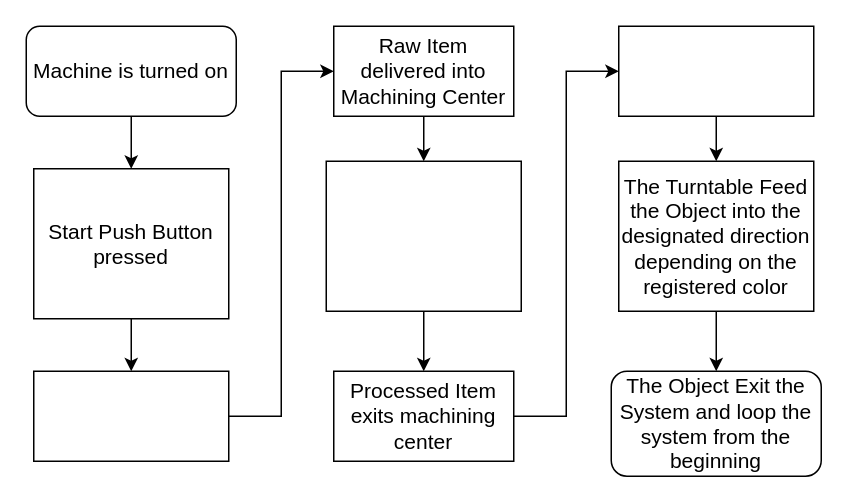
Image size: 848x503. Some labels were removed from this diagram. The shapes that lost their labels are listed below. From the top down, each one's box as (x1, y1, x2, y2) in pixels, then its label:
(617, 25, 814, 116): Processed item enter the Vision Sensor
(325, 160, 521, 311): The Machining Center process Raw Material into processed material
(32, 370, 229, 461): Raw tem is spawned at random Color
